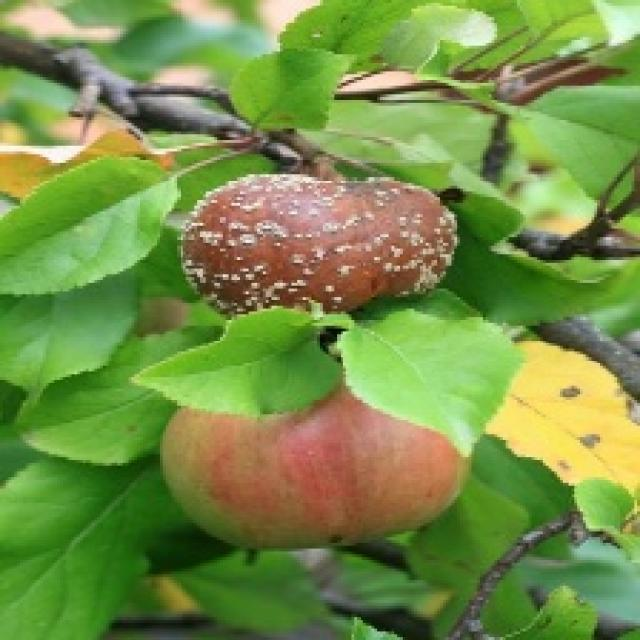rotten_apple: (183, 176, 450, 308)
